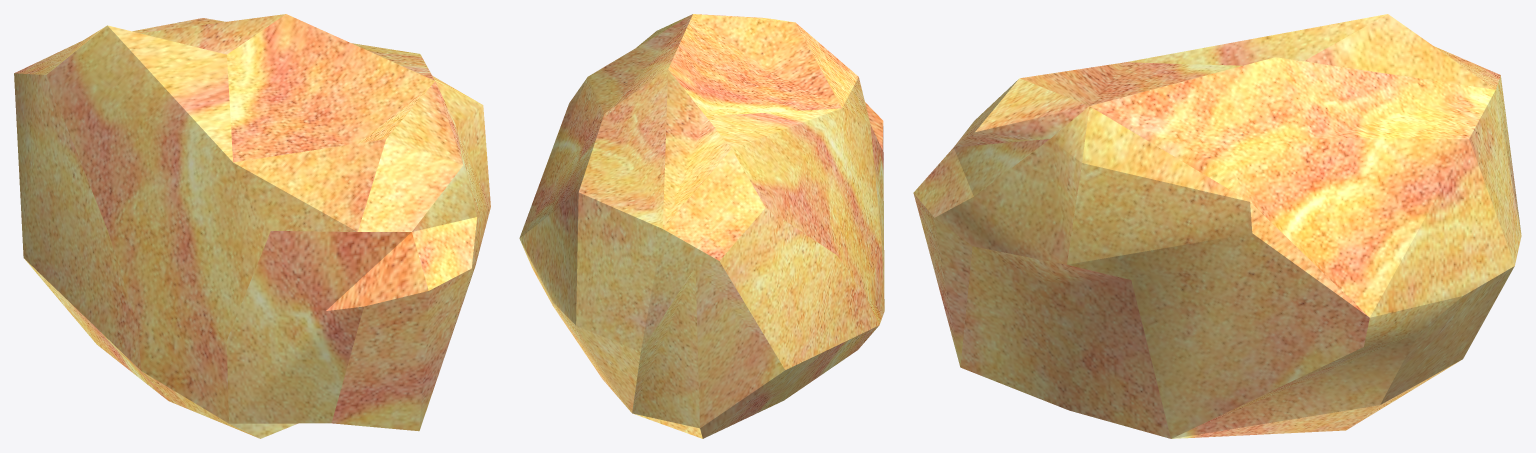
The model's file is boulder-character.glb.
3 views of the same model, side by side, from view 1: azimuth 30°, elevation 25°; view 2: azimuth 150°, elevation 25°; view 3: azimuth 270°, elevation 25° (orthographic). The views are drawn at different scales.
Parts seen in each view (by area): view 1: Icosahedron_n3d; view 2: Icosahedron_n3d; view 3: Icosahedron_n3d.
Boxes of the visible parts, x1,y1,x2,y2 form: Icosahedron_n3d: [14, 14, 490, 438]; Icosahedron_n3d: [519, 14, 884, 438]; Icosahedron_n3d: [913, 14, 1521, 438].
Size of the model in its own units: 0.3387 by 0.3555 by 0.5178.
1 material, 1 textured.
